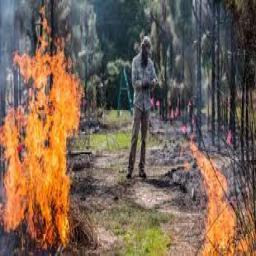Low smoke: (158, 1, 242, 93)
Small fire: (0, 0, 111, 255), (182, 91, 256, 253)
